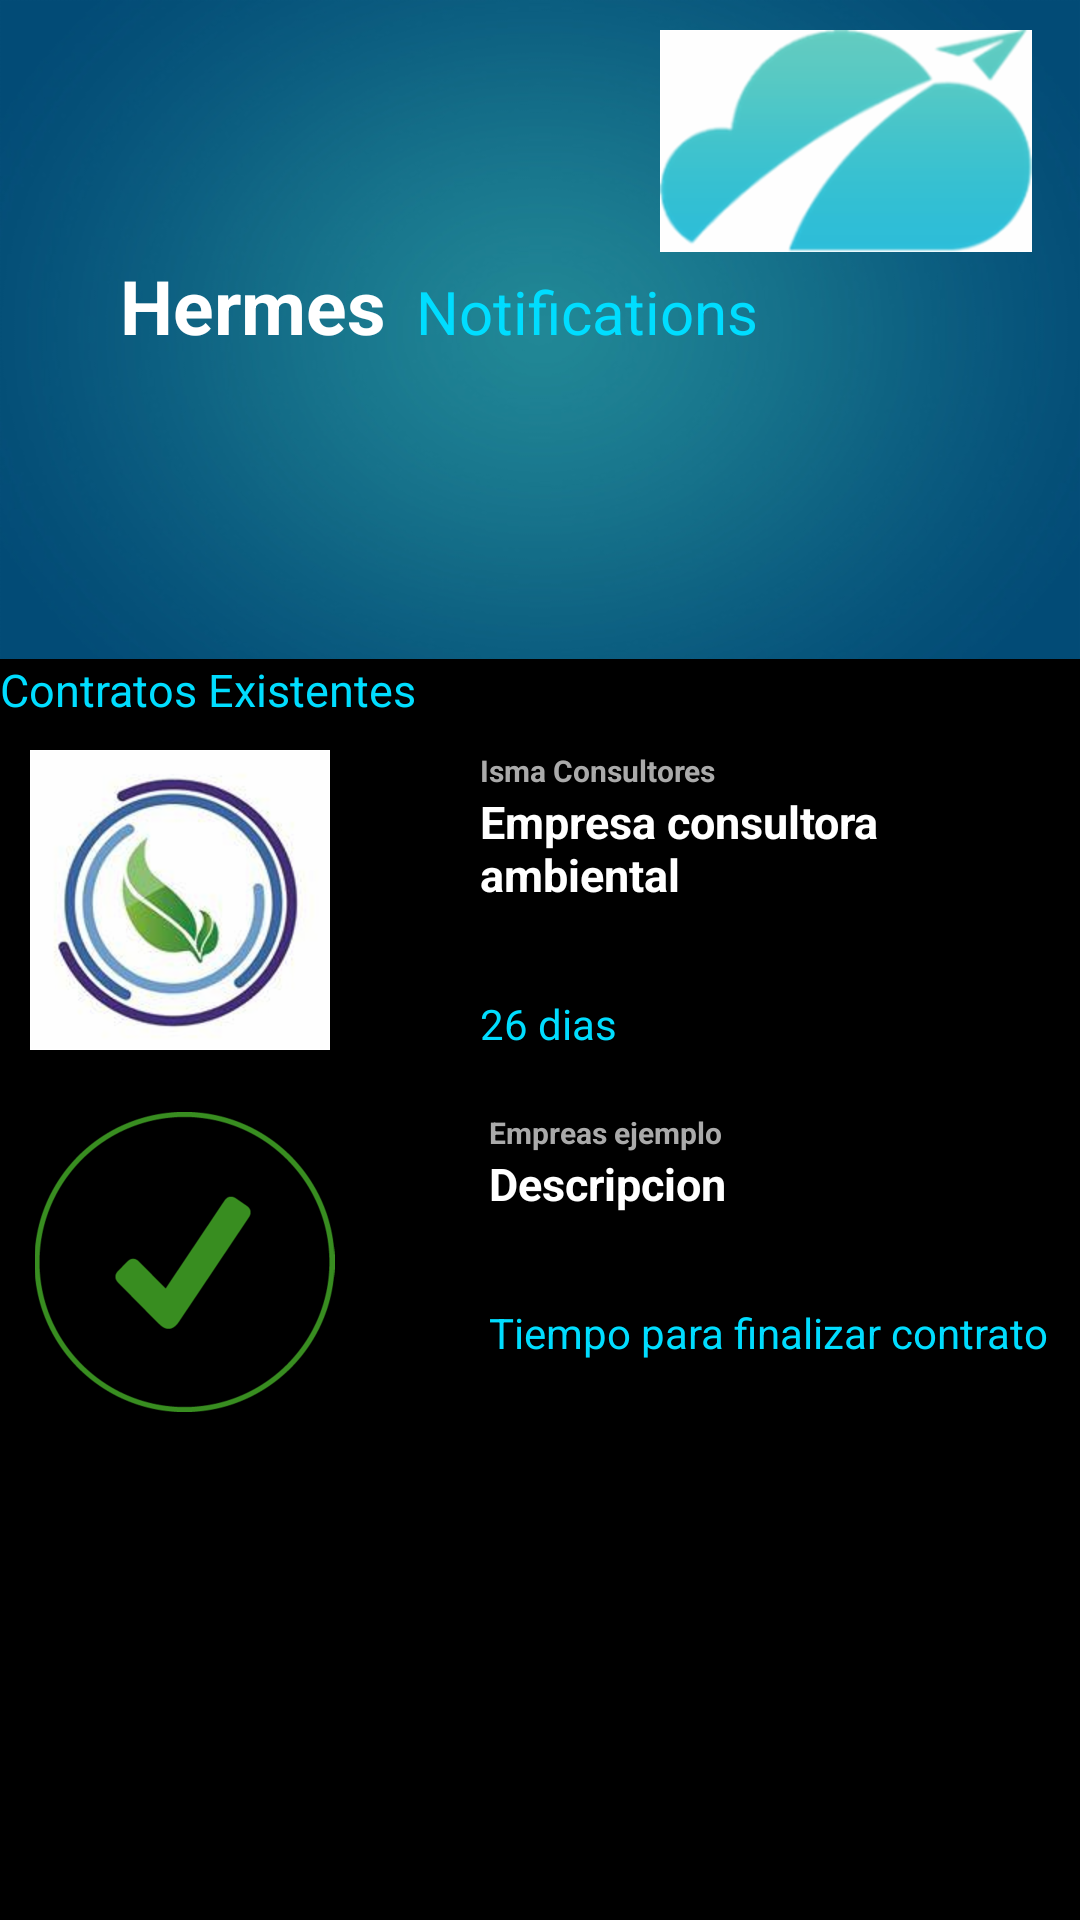

Where to tap for icons on this 1080*1920 app screen, as [x,y]:
check: [185,1262]
